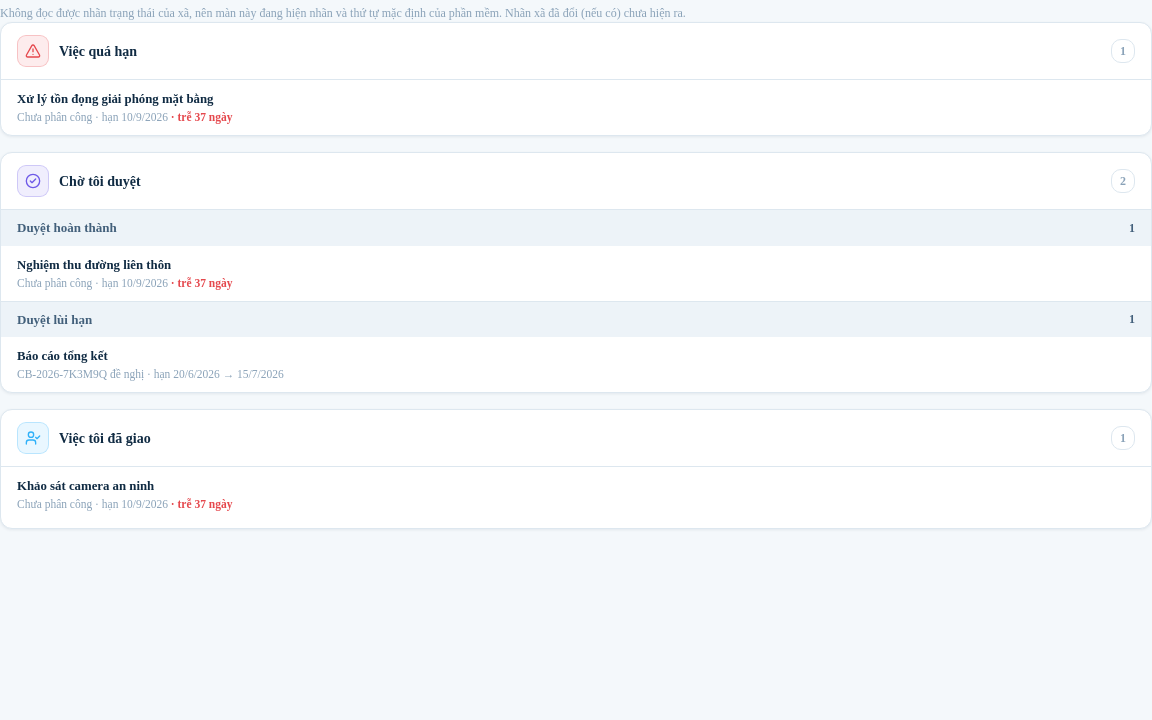
Scenario: a row opens the register's drawer HERE (owner 09/10/2026) › an extension row opens its TASK's drawer
Click the button that starts with "Báo cáo tổng kết" at (62, 356), box [1, 337, 1151, 392]
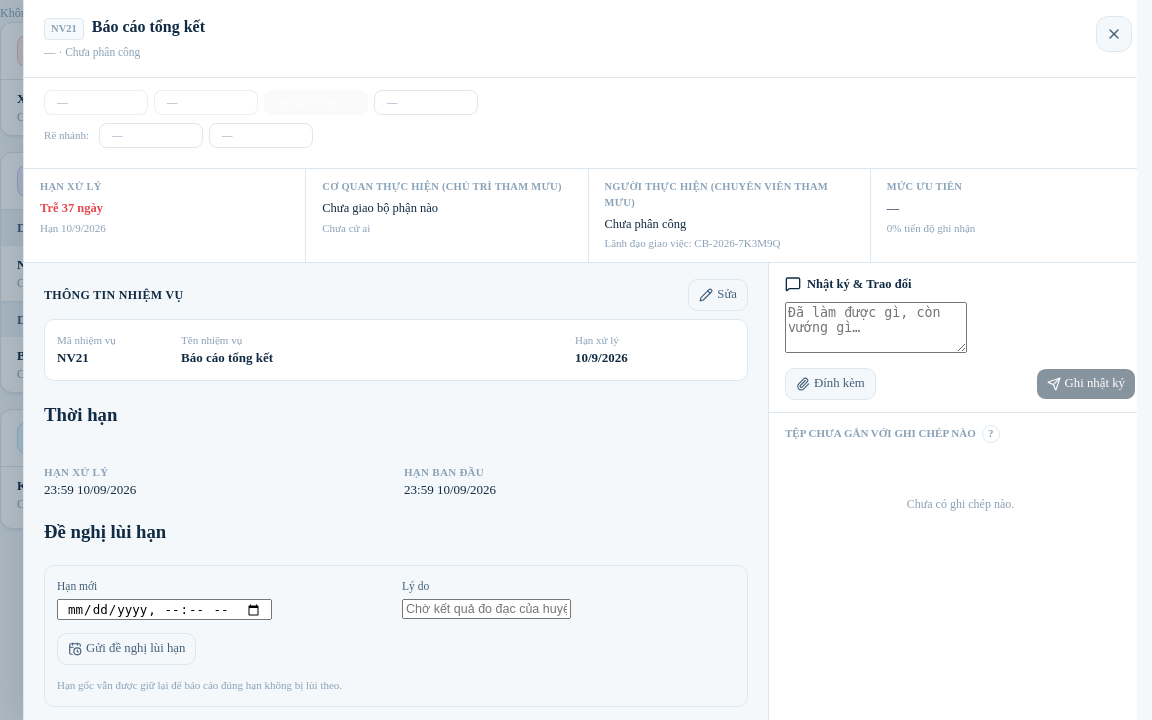
Expected: the heading "Báo cáo tổng kết" is shown, [92, 16, 205, 38]
